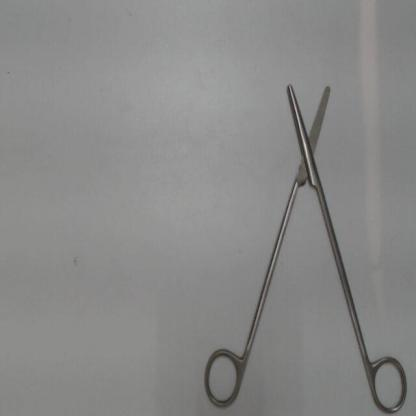9 Metzenbaum Scissors: (200, 76, 412, 415)
